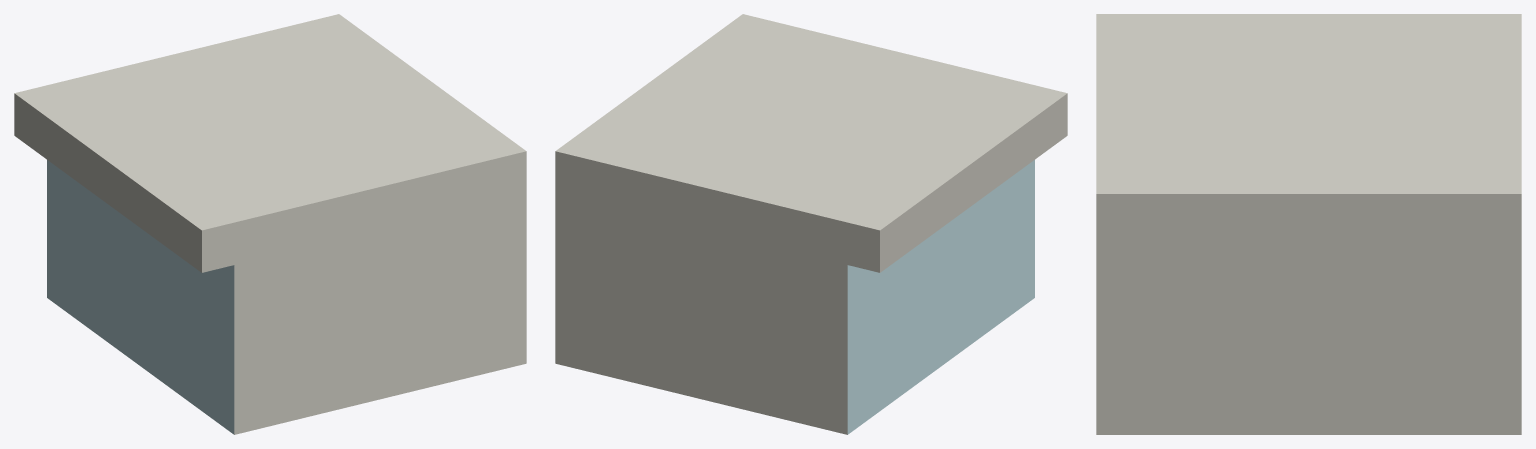
File: building_058.glb
3 renders of one model, left to right at view 1: azimuth 30°, elevation 25°; view 2: azimuth 150°, elevation 25°; view 3: azimuth 270°, elevation 25°, orthographic. The views are drawn at different scales.
Visible parts, largest first — view 1: building_058; view 2: building_058; view 3: building_058.
Boxes of the visible parts, bbox=[...] form: building_058: bbox=[14, 14, 526, 434]; building_058: bbox=[555, 14, 1067, 434]; building_058: bbox=[1096, 14, 1521, 434].
Size of the model in its own units: 1 by 0.625 by 1.
